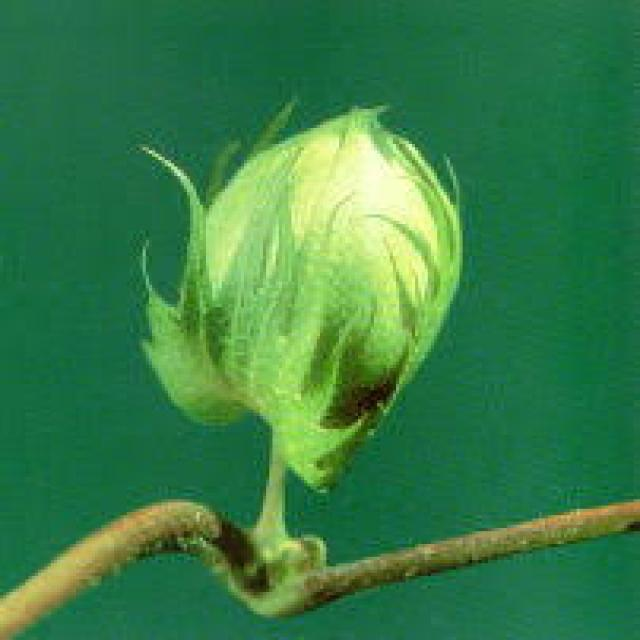Early Boll: (139, 102, 471, 494)
